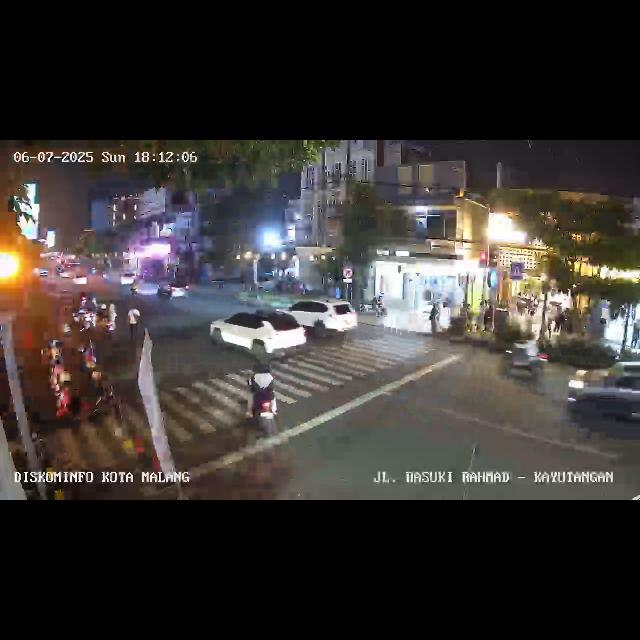car: (564, 362, 640, 438), (210, 310, 308, 364), (285, 297, 359, 339), (155, 282, 191, 302), (120, 268, 140, 288)
motorcycle: (243, 356, 280, 438), (498, 335, 550, 385)
person: (126, 304, 142, 341), (429, 302, 439, 336), (552, 306, 562, 334), (632, 323, 640, 349)
